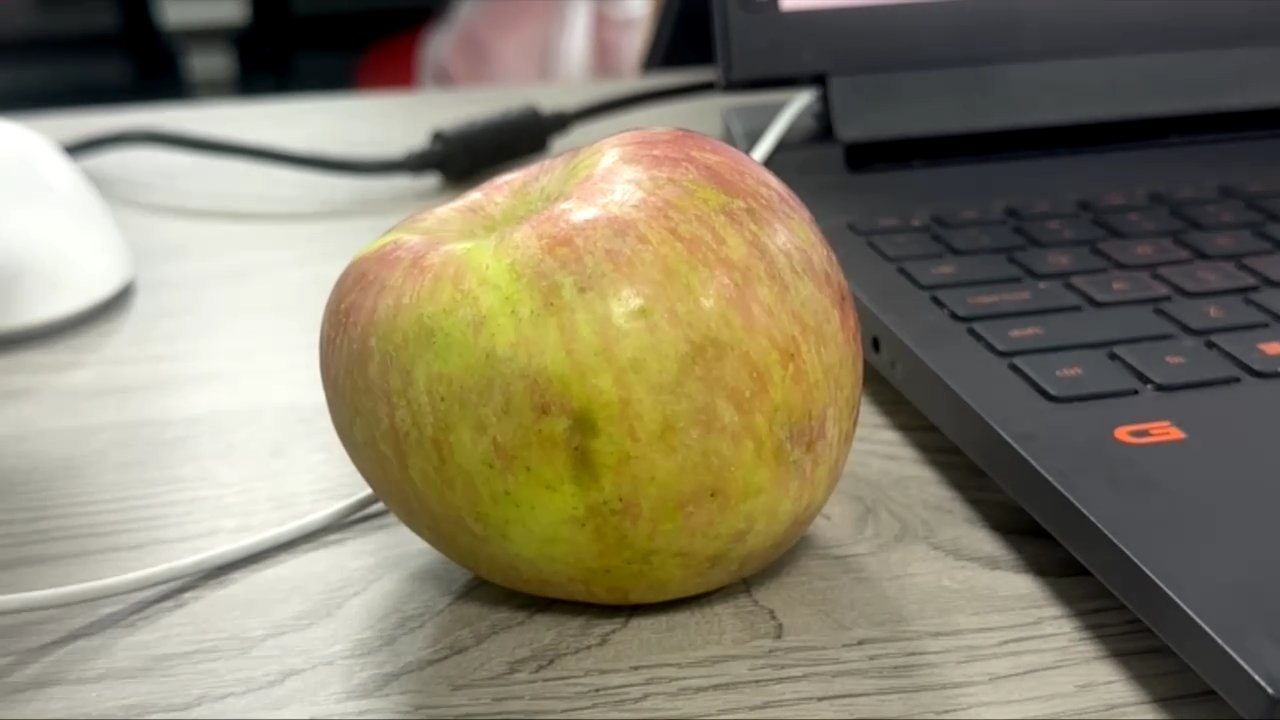apple_rotten: (311, 122, 870, 608)
